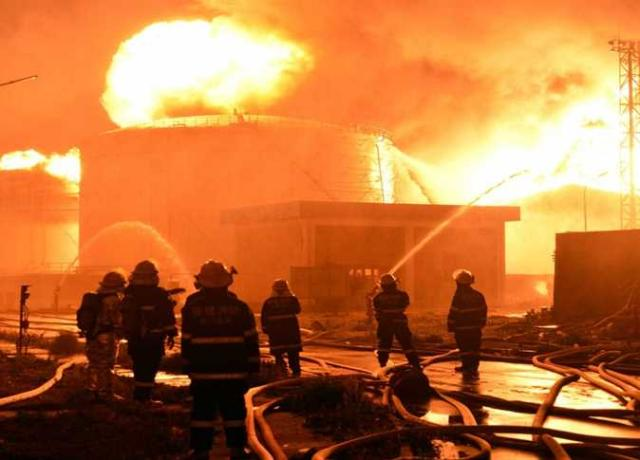fire: (98, 14, 312, 130)
